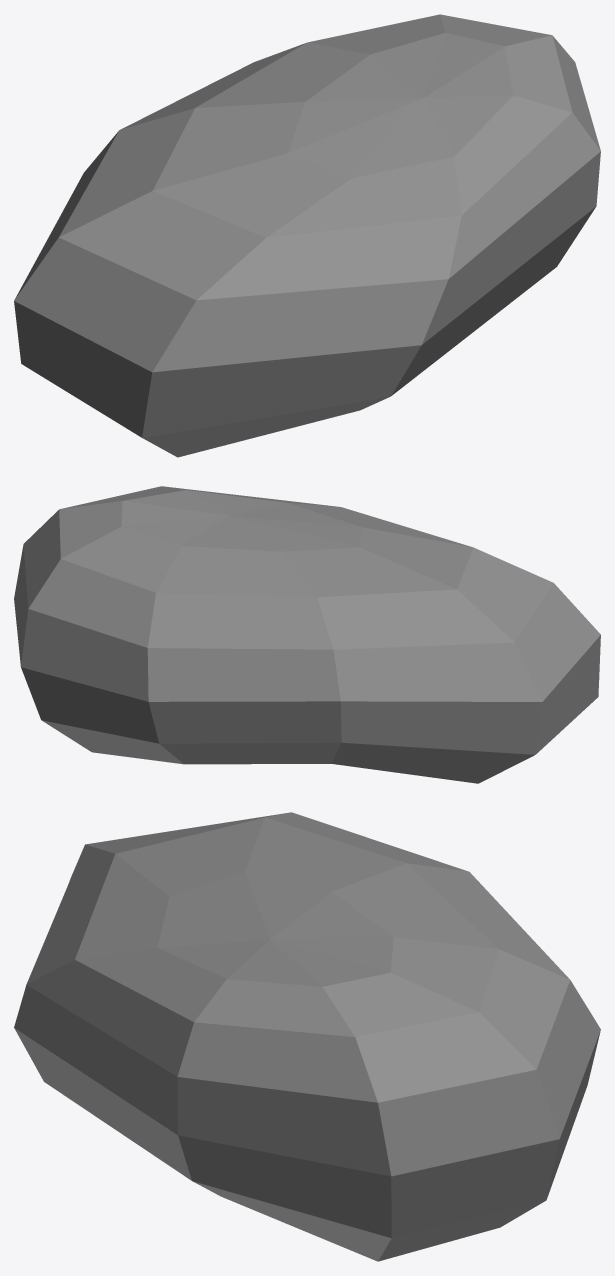
Rendered from roccia7.obj.
3 views of the same model, one above another, from view 1: azimuth 30°, elevation 25°; view 2: azimuth 150°, elevation 25°; view 3: azimuth 270°, elevation 25° (orthographic). The views are drawn at different scales.
Visible parts, largest first — view 1: Rock5; view 2: Rock5; view 3: Rock5.
Boxes of the visible parts, left/top/right/bottom form: Rock5: left=14, top=14, right=600, bottom=457; Rock5: left=14, top=486, right=600, bottom=783; Rock5: left=14, top=812, right=600, bottom=1261.
Bounding box in the file's own units: 2.84 × 1.17 × 2.15.
1 material, 1 textured.
